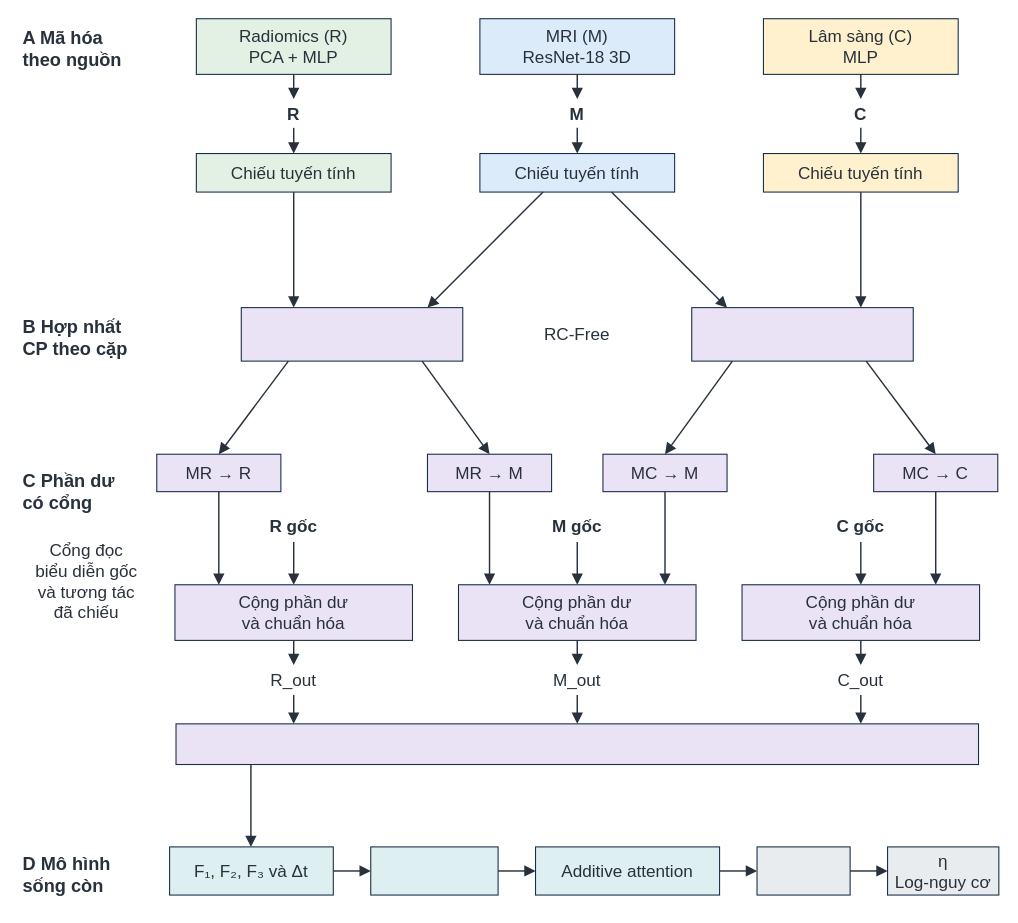
The diagram is 1018 pixels wide and 923 high, and some of its shapes have lost their labels. The centre of each missing label's shape, as x and y in pixels:
"Ghép [M_out; R_out; C_out] → MLP → F ở mỗi lần khám" goes at (x=577, y=744).
"T-LSTM" goes at (x=434, y=870).
"Tương tác MC" goes at (x=802, y=334).
"Tương tác MR" goes at (x=351, y=334).
"Đầu Cox" goes at (x=803, y=870).
